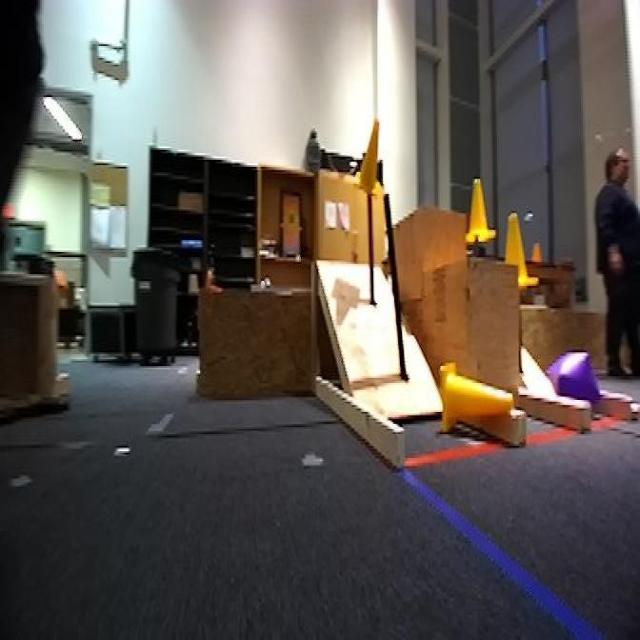frc_cone: (436, 362, 515, 432), (504, 210, 538, 294), (350, 121, 384, 201), (461, 175, 496, 247)
frc_cube: (548, 352, 592, 410)
